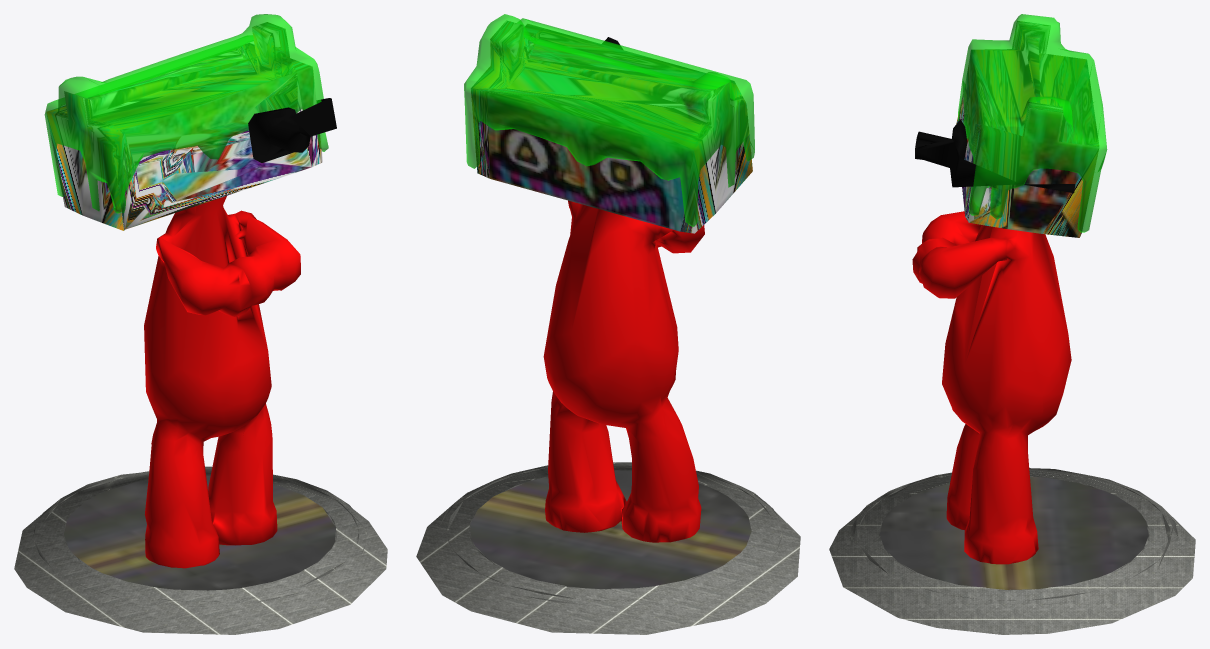
3 views of the same model, side by side, from view 1: azimuth 30°, elevation 25°; view 2: azimuth 150°, elevation 25°; view 3: azimuth 270°, elevation 25° (orthographic). The views are drawn at different scales.
Bounding box in the file's own units: 1.44 × 2.15 × 1.43.
Materials: 6 (3 with a texture image).
